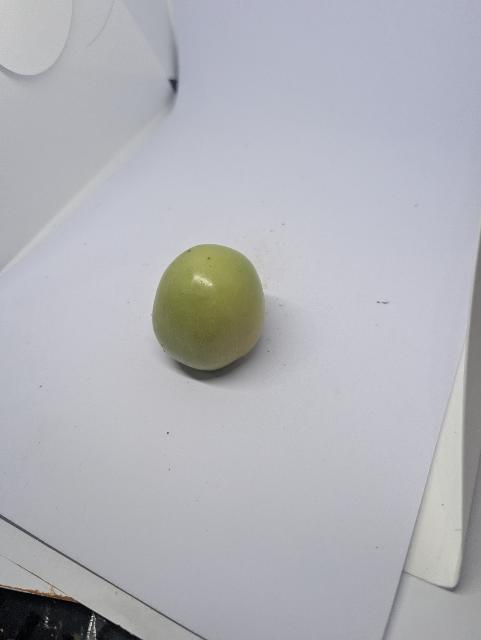green: (144, 229, 296, 384)
